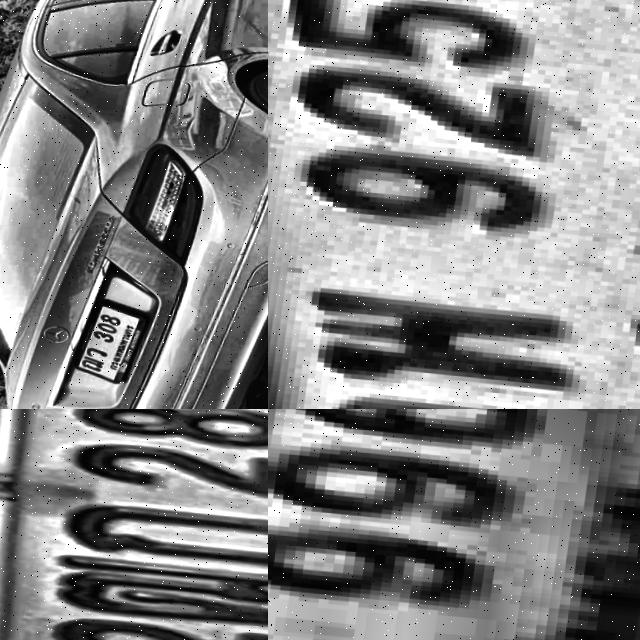license-plate: (268, 0, 640, 409), (268, 409, 640, 640), (0, 409, 268, 640), (72, 294, 161, 387)
